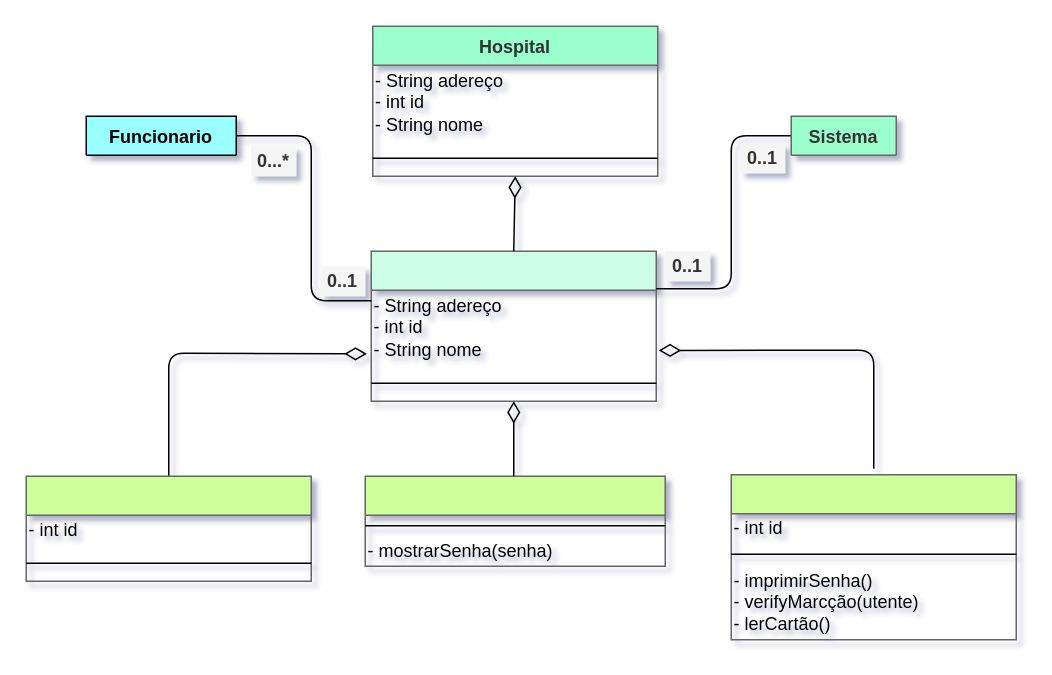
Some shapes in this 1052 by 675 pixel diagram are drawn without their labels. Here are the shapes that lost their labels. From the top down, the box of each, then its label:
(370, 250, 656, 401): Consultas Externas
(25, 475, 311, 581): Balcao
(364, 475, 665, 566): SalaDeEspera
(730, 473, 1016, 640): MaquinaDeSenhas
